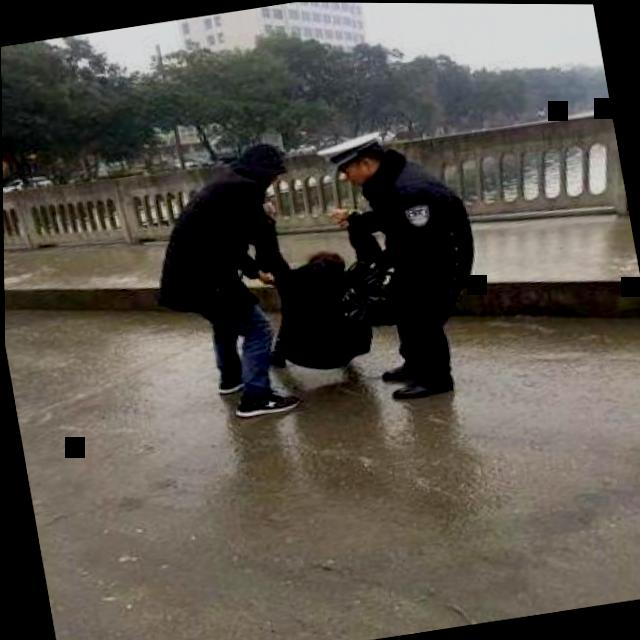Fall-Detected: (228, 222, 407, 404)
